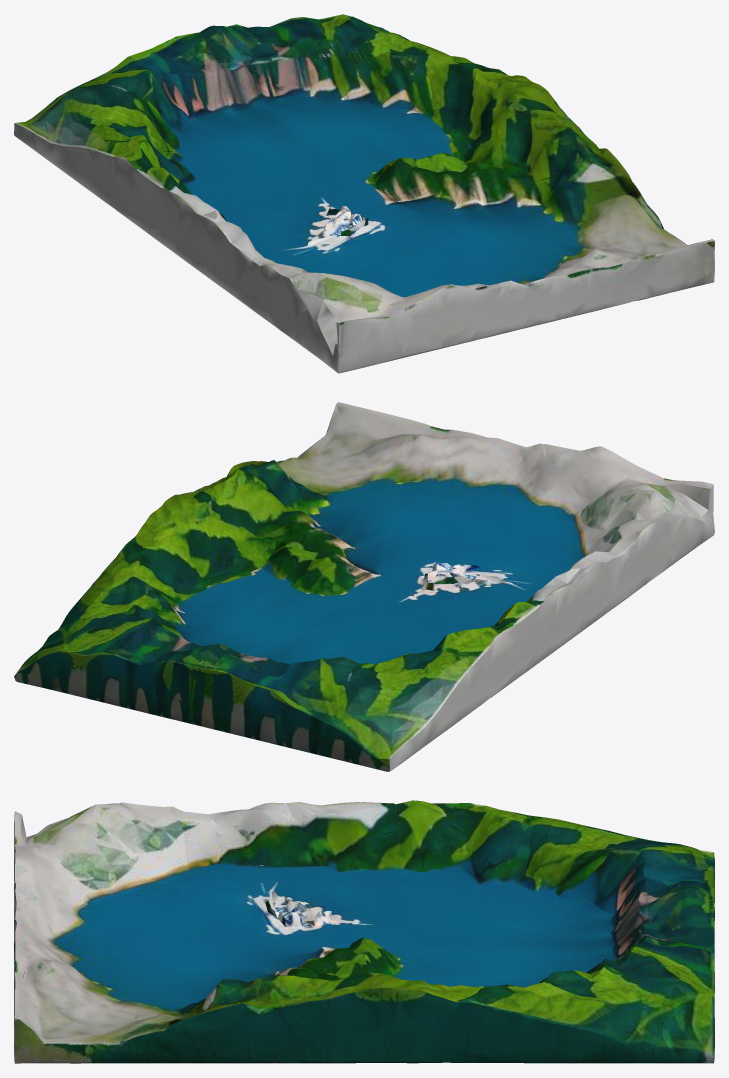
File: lake-towada.glb
3 renders of one model, top to bottom at view 1: azimuth 30°, elevation 25°; view 2: azimuth 150°, elevation 25°; view 3: azimuth 270°, elevation 25°, orthographic. The views are drawn at different scales.
Visible parts, largest first — view 1: logan-textured.obj; view 2: logan-textured.obj; view 3: logan-textured.obj.
Boxes of the visible parts, box(x1,y1,x2,y2) form: logan-textured.obj: box(14, 14, 714, 373); logan-textured.obj: box(14, 402, 714, 771); logan-textured.obj: box(14, 800, 714, 1063).
Bounding box in the file's own units: 0.6707 × 0.1241 × 1.
Materials: 1 (1 with a texture image).
